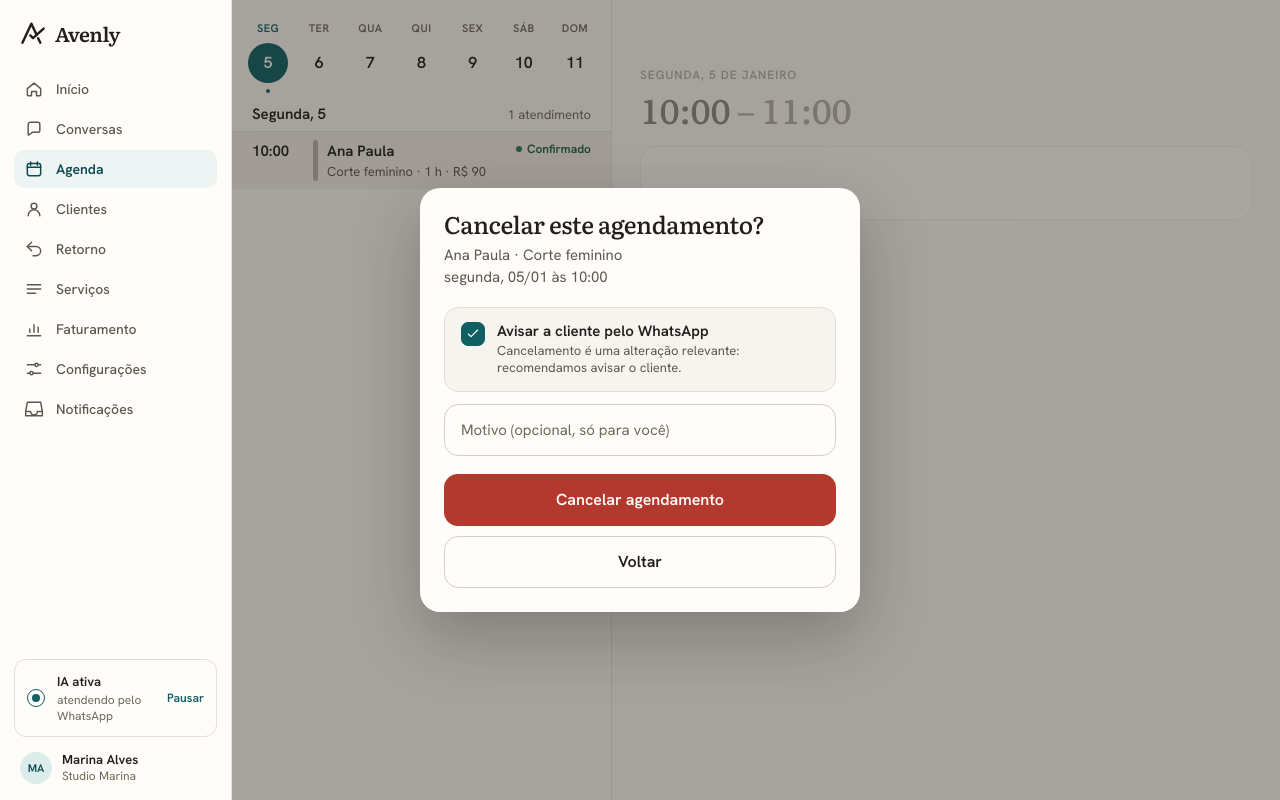
Test case: Goal112 A8 (cancelar): o campo é o mesmo nó ao cruzar 1024 px › 1280→390: mesmo nó, mesmo valor e com foco; a coluna sai
The width and height of the screenshot is (1280, 800).
Check: the element with class "list-detail-list" is shown, box [232,0,612,799]
In the field labelled "Motivo (opcional, só para você)": (640, 430) [444,404,836,456], type "Cliente viajou"
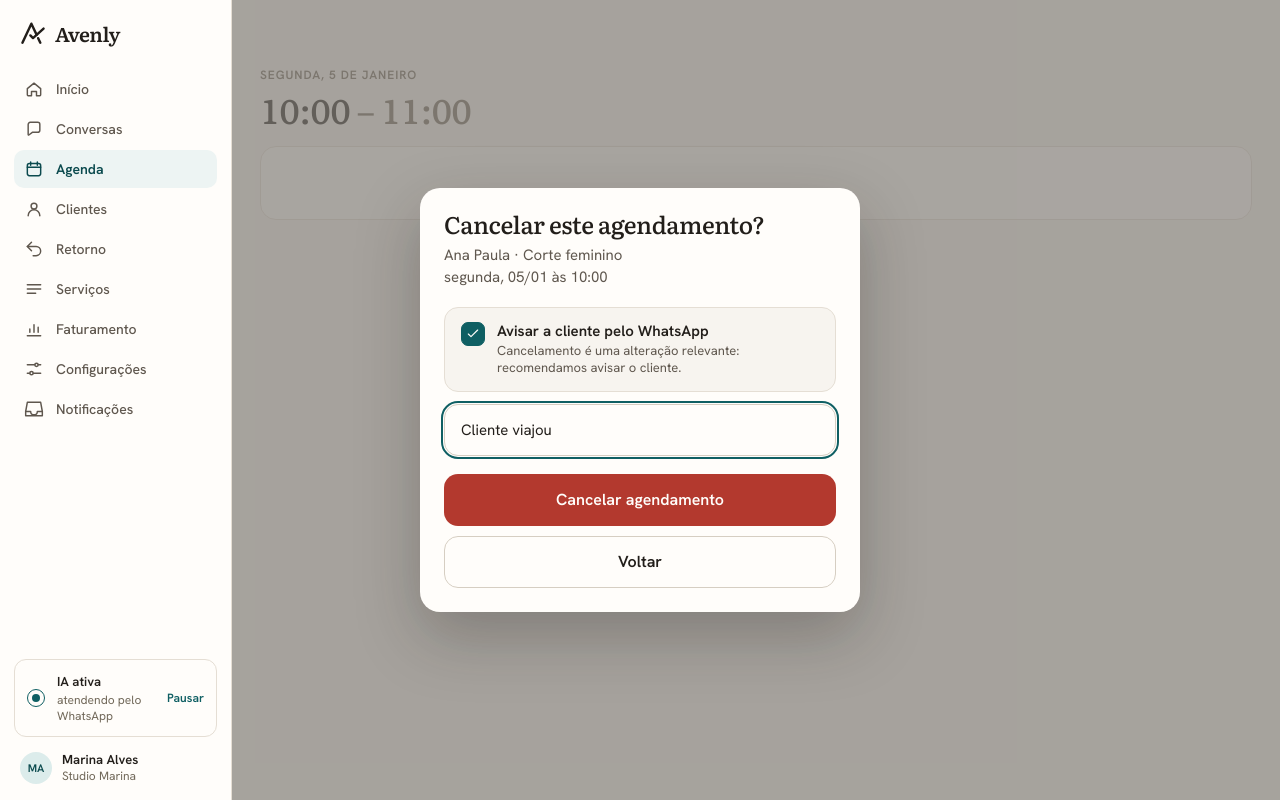
Check: the element with class "list-detail-list" is gone
